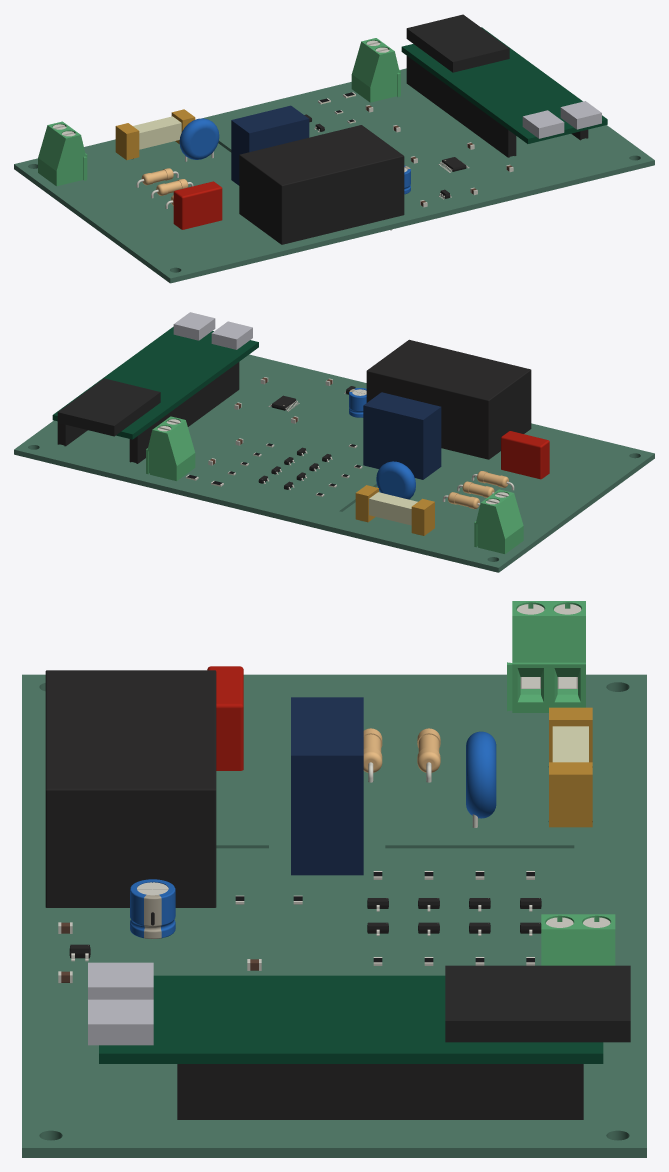
File: powerlenz-pcb.glb
3 renders of one model, top to bottom at view 1: azimuth 30°, elevation 25°; view 2: azimuth 150°, elevation 25°; view 3: azimuth 270°, elevation 25°, orthographic. The views are drawn at different scales.
Parts seen in each view (by area): view 1: =>[0:1:1:34], =>[0:1:1:15], =>[0:1:1:7], =>[0:1:1:25] (×2), =>[0:1:1:17], =>[0:1:1:27], =>[0:1:1:29], =>[0:1:1:21], =>[0:1:1:31], =>[0:1:1:19]; view 2: =>[0:1:1:34], =>[0:1:1:7], =>[0:1:1:15], =>[0:1:1:27], =>[0:1:1:25] (×2), =>[0:1:1:17] (×2), =>[0:1:1:29], =>[0:1:1:21], =>[0:1:1:31], =>[0:1:1:19] (×2), =>[0:1:1:33]; view 3: =>[0:1:1:34], =>[0:1:1:7], =>[0:1:1:15], =>[0:1:1:17], =>[0:1:1:27], =>[0:1:1:25] (×2), =>[0:1:1:29], =>[0:1:1:21], =>[0:1:1:31], =>[0:1:1:33], =>[0:1:1:19] (×2).
Part boxes in pixels (bbox=[...]): =>[0:1:1:34]: bbox=[14, 68, 654, 283]; =>[0:1:1:15]: bbox=[239, 125, 404, 244]; =>[0:1:1:7]: bbox=[401, 14, 607, 143]; =>[0:1:1:25] (×2): bbox=[38, 38, 400, 186]; =>[0:1:1:17]: bbox=[406, 56, 516, 157]; =>[0:1:1:27]: bbox=[231, 105, 309, 185]; =>[0:1:1:29]: bbox=[115, 109, 195, 160]; =>[0:1:1:21]: bbox=[173, 181, 222, 229]; =>[0:1:1:31]: bbox=[179, 118, 219, 161]; =>[0:1:1:19]: bbox=[136, 168, 178, 187]; =>[0:1:1:34]: bbox=[14, 354, 654, 572]; =>[0:1:1:7]: bbox=[52, 312, 258, 439]; =>[0:1:1:15]: bbox=[366, 339, 531, 459]; =>[0:1:1:27]: bbox=[363, 392, 441, 479]; =>[0:1:1:25] (×2): bbox=[146, 416, 523, 553]; =>[0:1:1:17] (×2): bbox=[57, 362, 239, 463]; =>[0:1:1:29]: bbox=[355, 485, 434, 535]; =>[0:1:1:21]: bbox=[501, 431, 549, 479]; =>[0:1:1:31]: bbox=[376, 461, 415, 499]; =>[0:1:1:19] (×2): bbox=[442, 471, 514, 509]; =>[0:1:1:33]: bbox=[349, 388, 366, 417]; =>[0:1:1:34]: bbox=[22, 674, 646, 1157]; =>[0:1:1:7]: bbox=[88, 962, 630, 1063]; =>[0:1:1:15]: bbox=[45, 670, 216, 907]; =>[0:1:1:17]: bbox=[177, 1064, 583, 1119]; =>[0:1:1:27]: bbox=[291, 697, 363, 875]; =>[0:1:1:25] (×2): bbox=[507, 601, 615, 965]; =>[0:1:1:29]: bbox=[549, 707, 592, 827]; =>[0:1:1:21]: bbox=[207, 666, 243, 770]; =>[0:1:1:31]: bbox=[466, 731, 496, 827]; =>[0:1:1:33]: bbox=[130, 879, 175, 939]; =>[0:1:1:19] (×2): bbox=[363, 728, 440, 782].
Size of the model in its own units: 0.154 by 0.0231 by 0.086.
